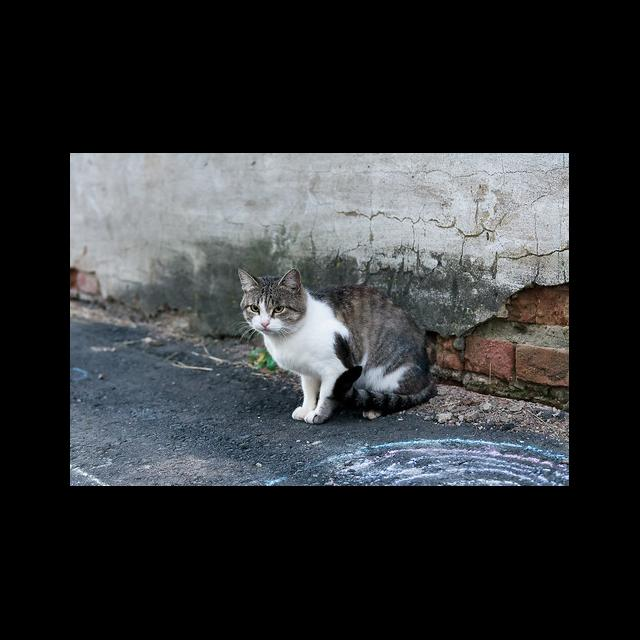animals: (238, 268, 438, 424)
